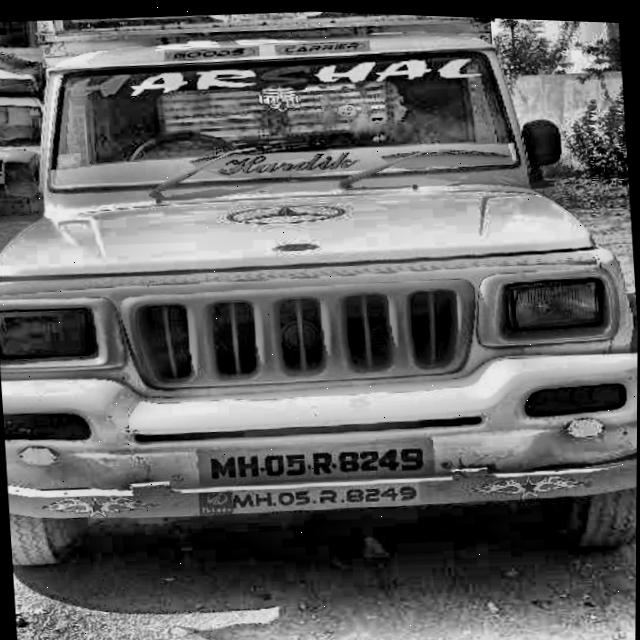light_vehicle: (0, 0, 640, 561)
